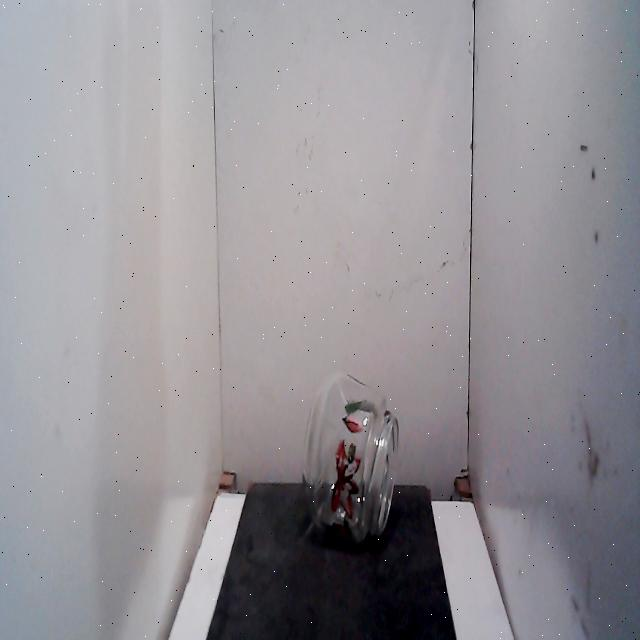vidro: (296, 365, 403, 559)
